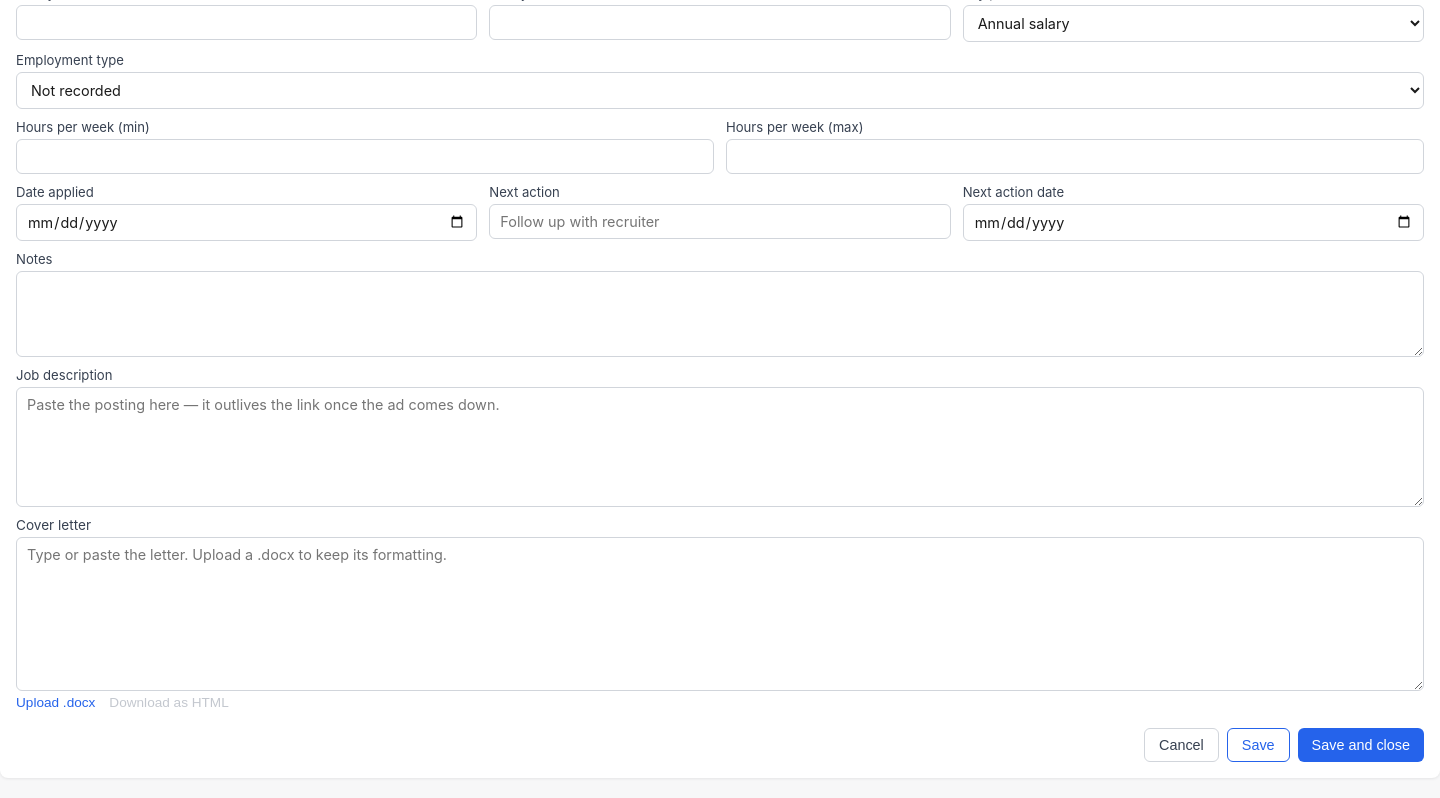
Test: Save and close (KAN-58) › disables both submits while saving
The width and height of the screenshot is (1440, 798).
(page scrolled)
Click the button "Save and close" at coordinates (1361, 745), box [1298, 728, 1424, 762]
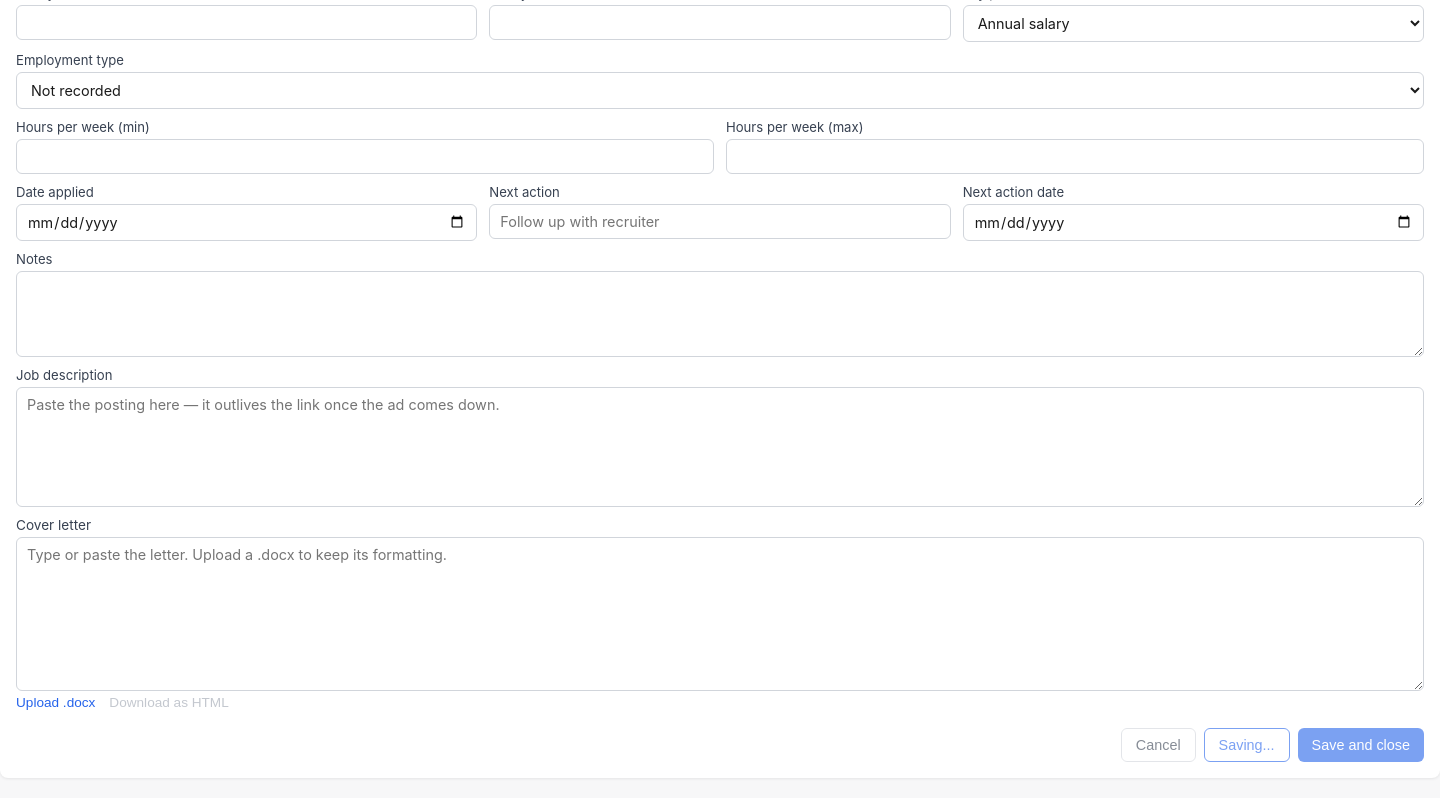
Result: the button "Save and close" is disabled at [1298, 728, 1424, 762]
